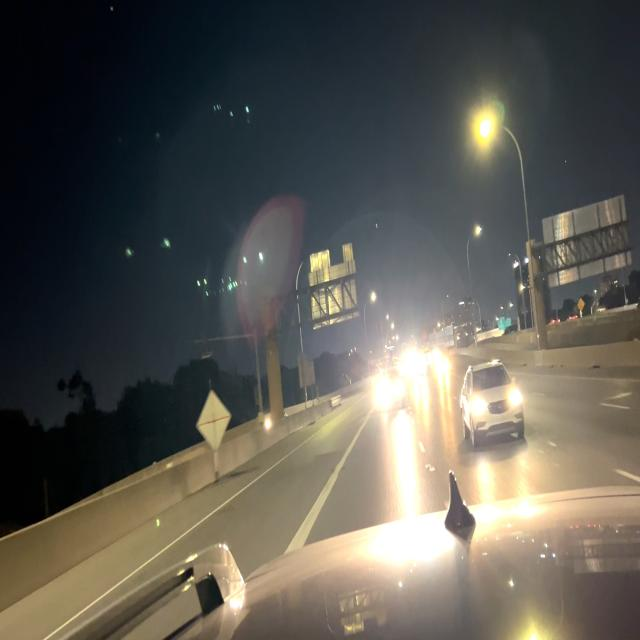back-of-sign: (541, 192, 632, 294), (307, 241, 359, 331), (196, 385, 232, 454), (296, 349, 316, 394)
